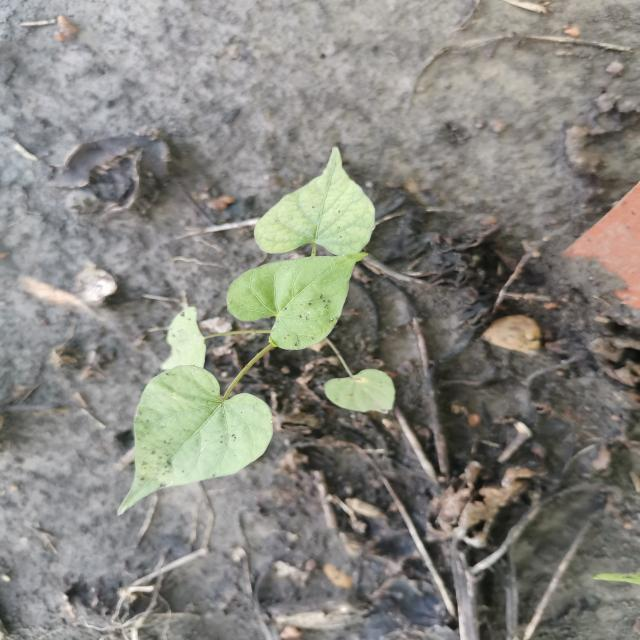MorningGlory: (112, 145, 400, 519)
